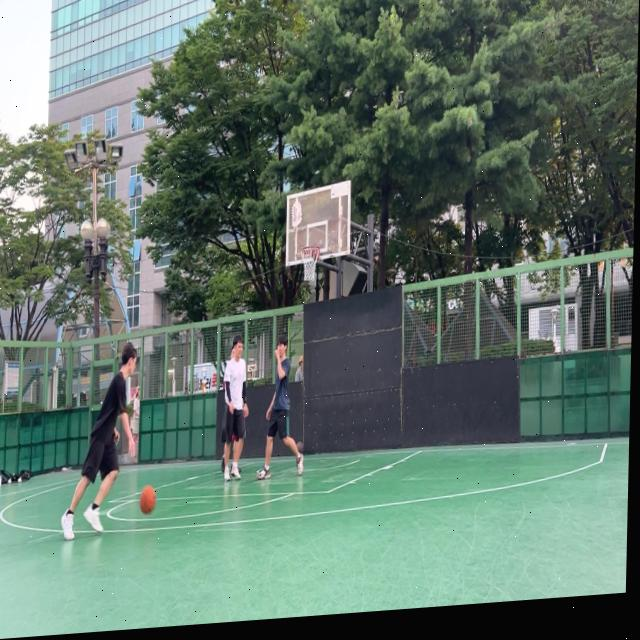basketball: (139, 483, 157, 514)
hoop: (300, 245, 319, 283)
